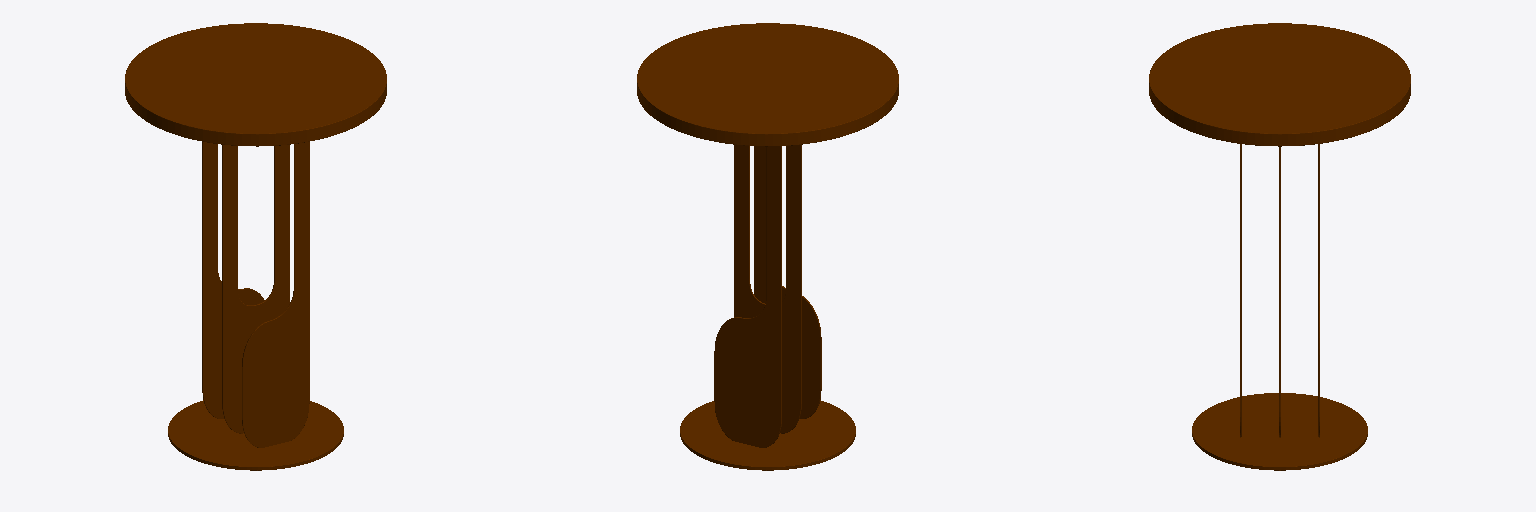
3 renders of one model, left to right at view 1: azimuth 30°, elevation 25°; view 2: azimuth 150°, elevation 25°; view 3: azimuth 270°, elevation 25°, orthographic.
Visible parts, largest first — view 1: Side_Table_04; view 2: Side_Table_04; view 3: Side_Table_04.
Part boxes in pixels (x1,y1,x2,y2): Side_Table_04: (125,23,386,470); Side_Table_04: (637,23,898,470); Side_Table_04: (1149,23,1410,470).
Size of the model in its own units: 36.58 by 54.62 by 36.58.
Materials: 1 (1 with a texture image).